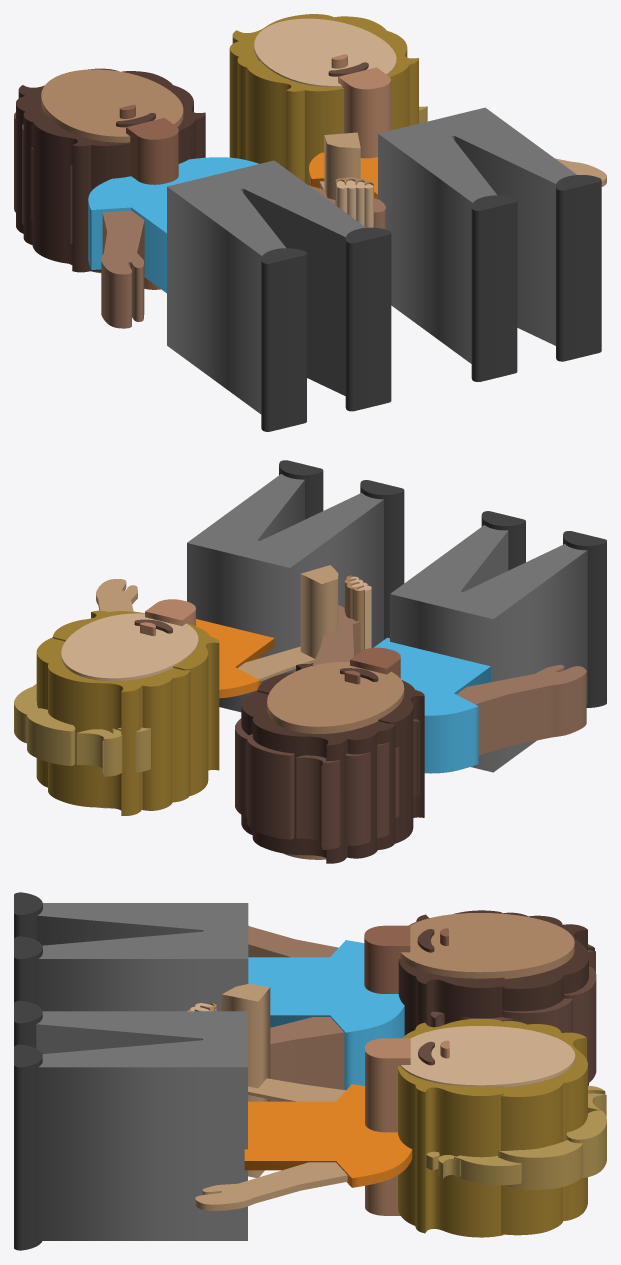
File: emoji_u1f9d1_1f3fd_200d_1f91d_200d_1f9d1_1f3fc.glb
3 renders of one model, top to bottom at view 1: azimuth 30°, elevation 25°; view 2: azimuth 150°, elevation 25°; view 3: azimuth 270°, elevation 25°, orthographic. The views are drawn at different scales.
Visible parts, largest first — view 1: emoji_u1f9d1_1f3fd_200d_1f91d_200d_1f9d1_1f3fc; view 2: emoji_u1f9d1_1f3fd_200d_1f91d_200d_1f9d1_1f3fc; view 3: emoji_u1f9d1_1f3fd_200d_1f91d_200d_1f9d1_1f3fc.
Part boxes in pixels (box(x1,y1,x2,y2)): emoji_u1f9d1_1f3fd_200d_1f91d_200d_1f9d1_1f3fc: box(14, 14, 606, 431); emoji_u1f9d1_1f3fd_200d_1f91d_200d_1f9d1_1f3fc: box(14, 460, 606, 863); emoji_u1f9d1_1f3fd_200d_1f91d_200d_1f9d1_1f3fc: box(14, 892, 606, 1250).
Size of the model in its own units: 0.0346 by 0.0114 by 0.0335.
